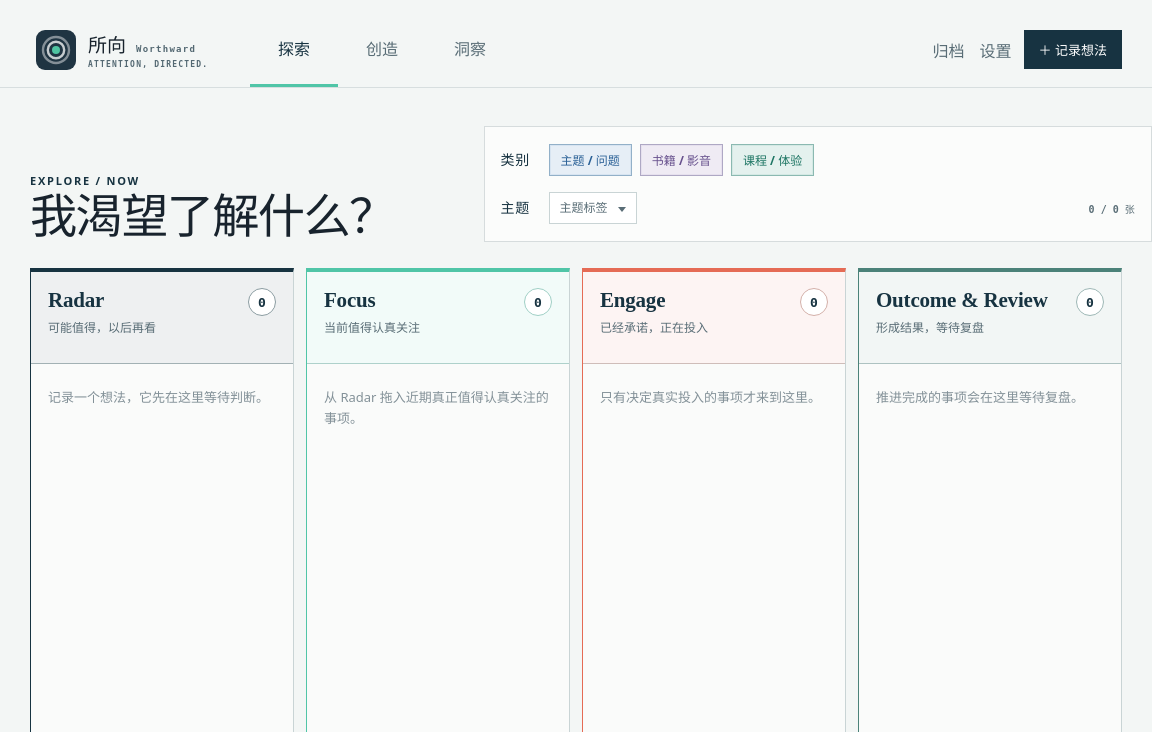
Test case: attention workbench interface › shows separate explore and create category regions in Settings
Click the button with aria-label "打开设置": (996, 50) [977,30,1015,70]
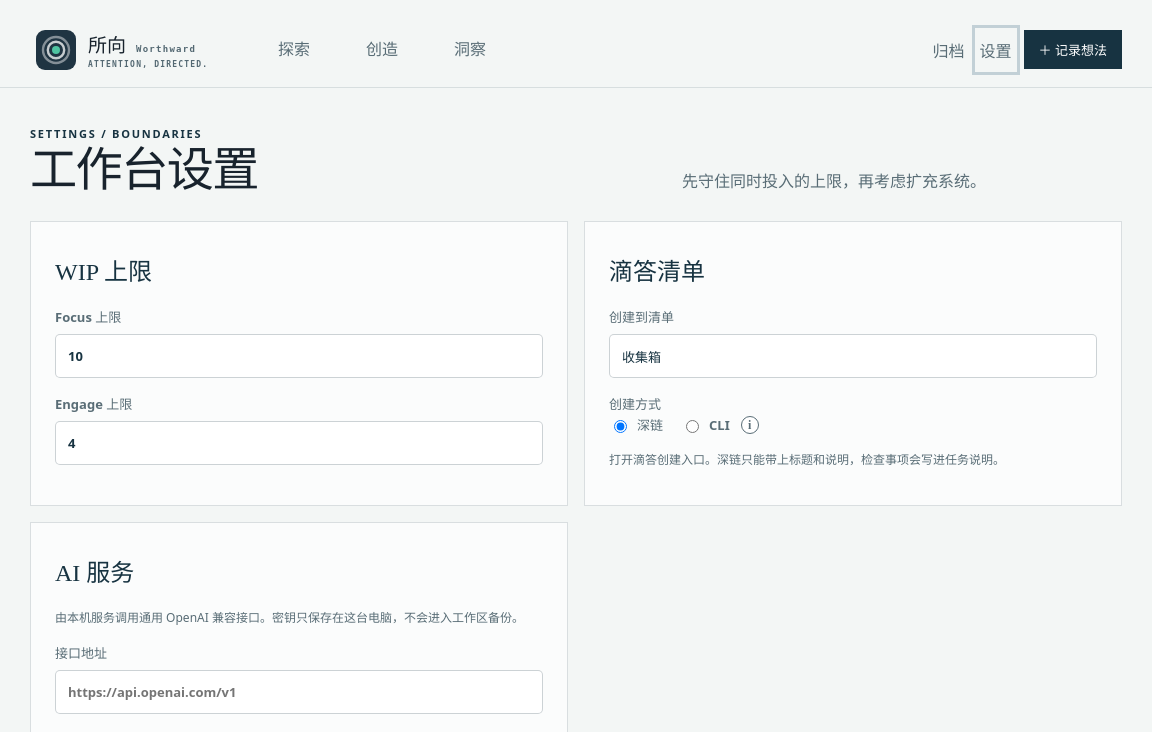
Check: the heading "AI 服务" is shown, box [55,560,134,586]
